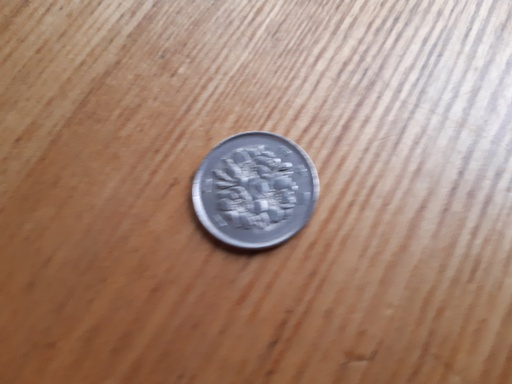100yen: (191, 132, 319, 250)
